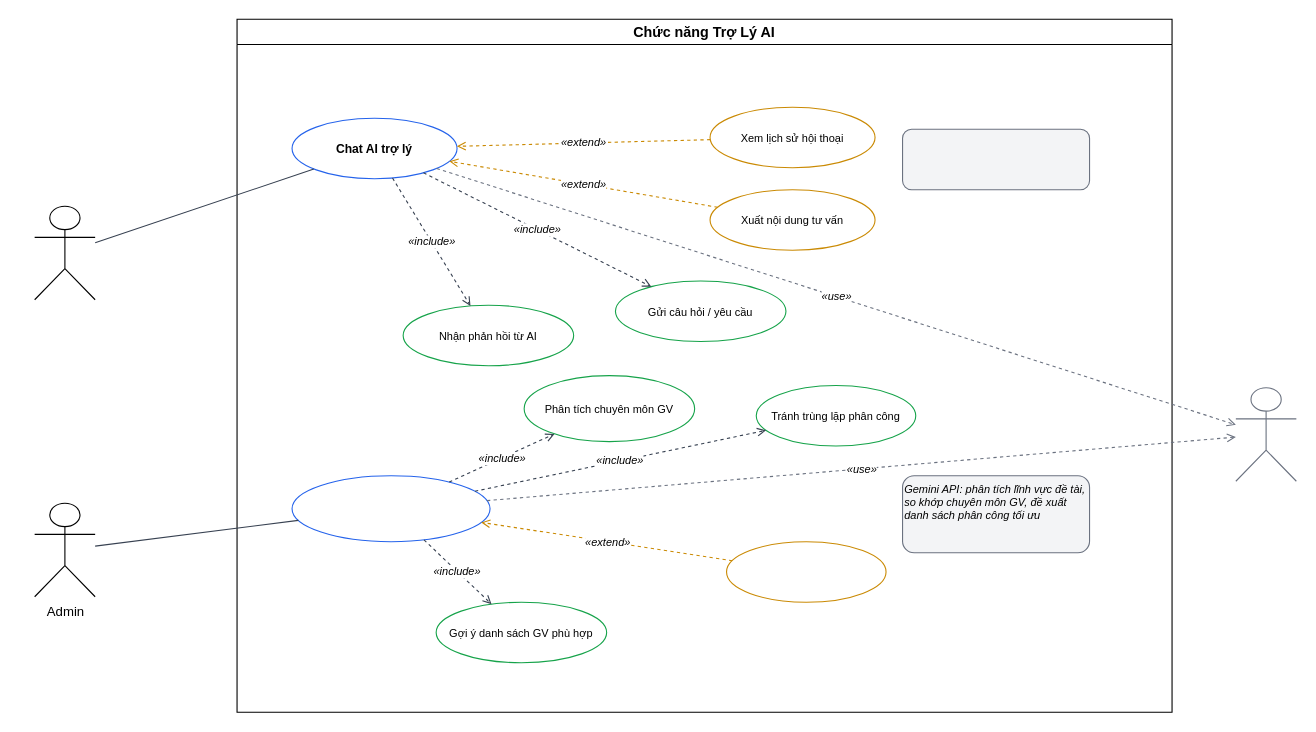
This 1316x732 diagram has some shape labels left out. Each missing label, with the centre of its shape:
"Admin xem xét & xác nhận" goes at (x=805, y=571).
"AI gợi ý phân công GV phản biện" goes at (x=390, y=508).
"Gemini AI «system»" goes at (x=1265, y=434).
"Gemini API: tư vấn hướng dẫn, gợi ý tài liệu, giải đáp thắc mắc đồ án" goes at (x=995, y=159).
"GV Hướng Dẫn" goes at (x=64, y=252).
